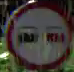No overtake: (5, 0, 70, 71)
